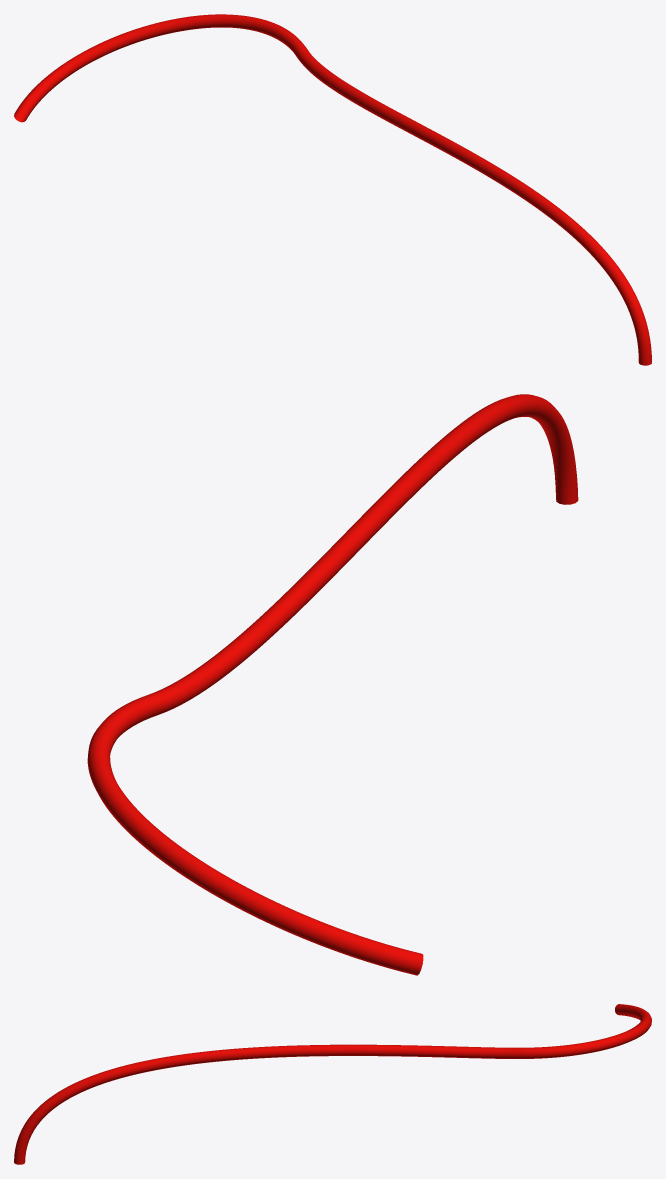
File: tubograsso.glb
The picture shows the model from 3 angles, top to bottom: view 1: azimuth 30°, elevation 25°; view 2: azimuth 150°, elevation 25°; view 3: azimuth 270°, elevation 25°; orthographic projection. The views are drawn at different scales.
Parts seen in each view (by area): view 1: BézierCurve; view 2: BézierCurve; view 3: BézierCurve.
Boxes of the visible parts, x1=… form: BézierCurve: x1=14, y1=14, x2=651, y2=365; BézierCurve: x1=87, y1=394, x2=578, y2=975; BézierCurve: x1=14, y1=1004, x2=651, y2=1164.
Bounding box in the file's own units: 0.1334 × 0.0541 × 0.3147.
